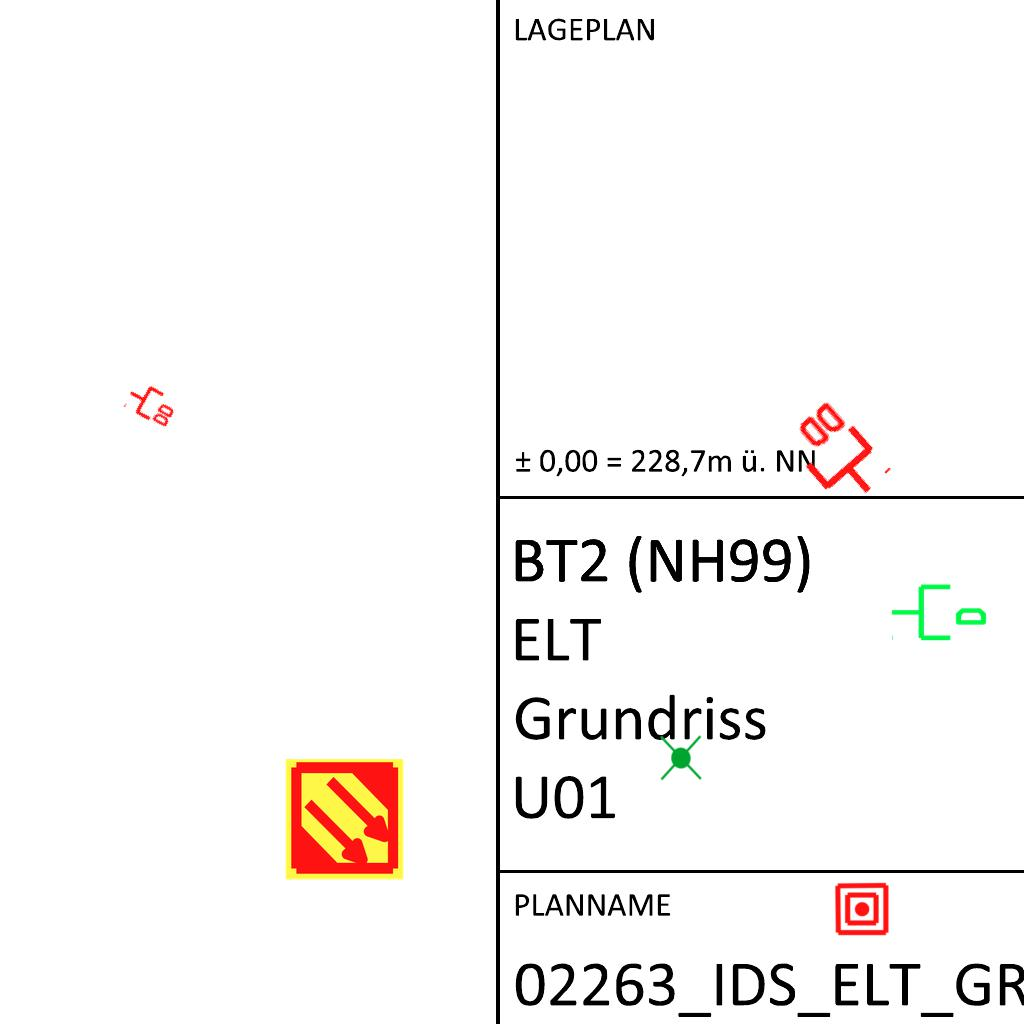ASR_Ansaugrauchmelder: (282, 757, 407, 882)
Datenanschluss_einfach: (889, 576, 989, 645)
Datenanschluss_zweifach: (775, 393, 896, 518), (121, 376, 183, 431)
NAM-Nichtautomatischer_Melder: (834, 881, 890, 937)
Notlichtbaustein_in_Allgemeinbeleuchtug_engebaut_Einbau_(1UG_und_2UG_Aufbauvaria: (656, 733, 707, 783)
